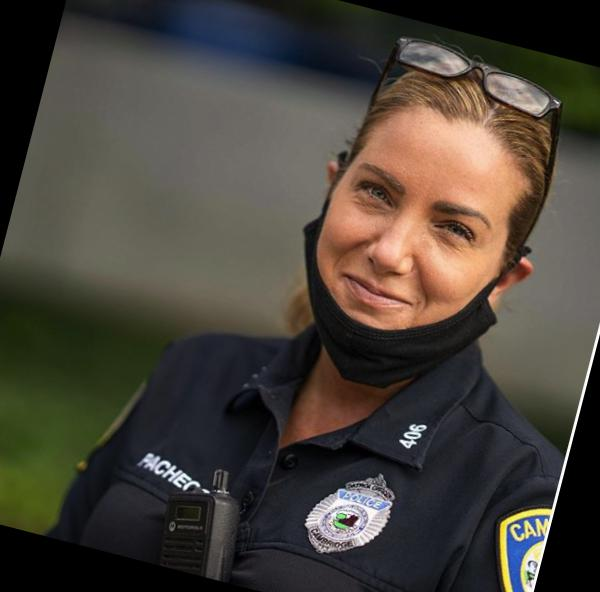mask_weared_incorrect: (309, 140, 516, 391)
